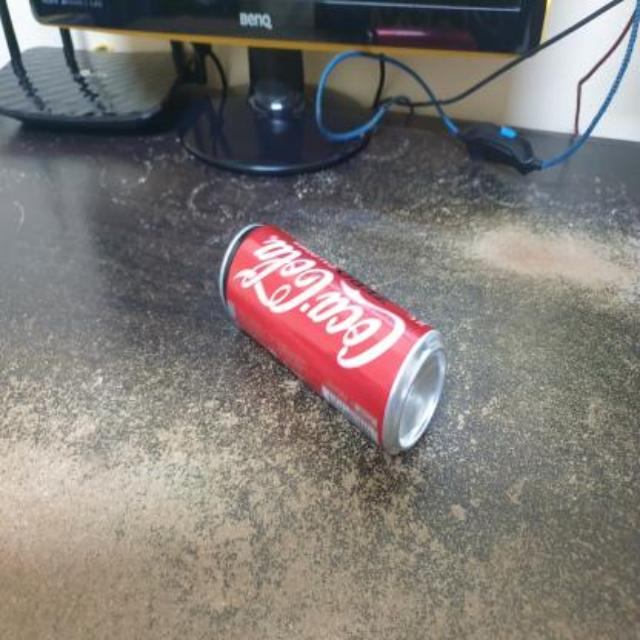metal: (218, 223, 443, 451)
